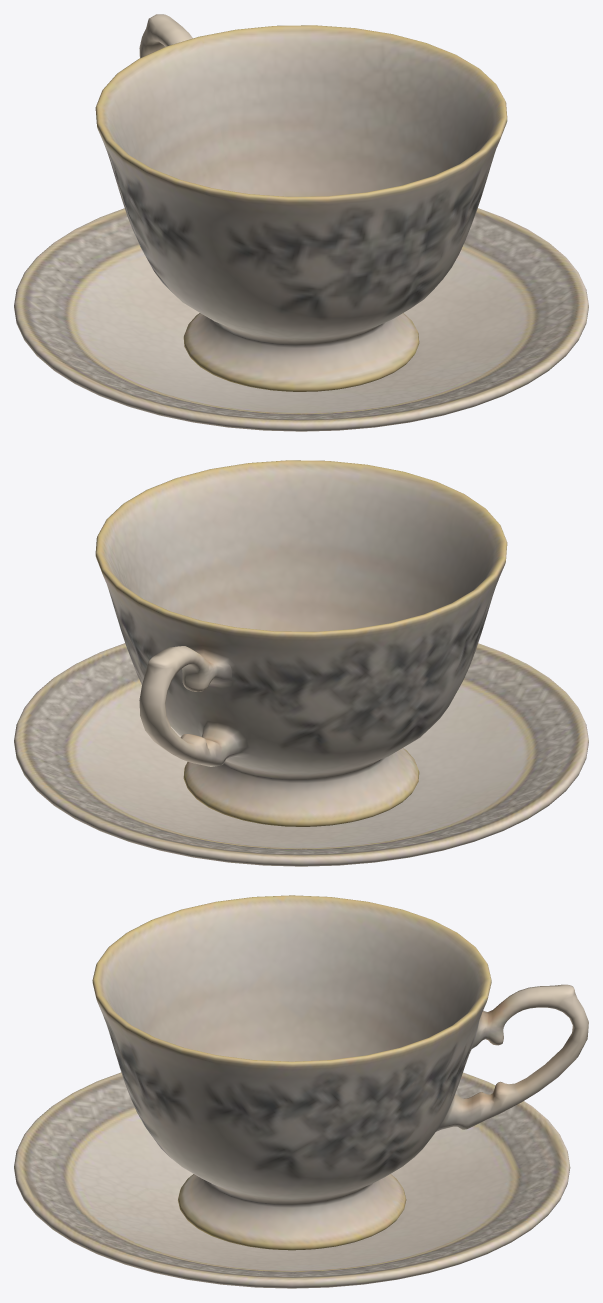
Rendered from cupset.glb.
3 renders of one model, top to bottom at view 1: azimuth 30°, elevation 25°; view 2: azimuth 150°, elevation 25°; view 3: azimuth 270°, elevation 25°, orthographic. The views are drawn at different scales.
Parts seen in each view (by area): view 1: tea_set_01_cup_small_01, tea_set_01_saucer_circular_03; view 2: tea_set_01_cup_small_01, tea_set_01_saucer_circular_03; view 3: tea_set_01_cup_small_01, tea_set_01_saucer_circular_03.
Boxes of the visible parts, x1,y1,x2,y2 form: tea_set_01_cup_small_01: (95, 14, 507, 391); tea_set_01_saucer_circular_03: (14, 208, 588, 431); tea_set_01_cup_small_01: (95, 460, 507, 826); tea_set_01_saucer_circular_03: (14, 643, 588, 866); tea_set_01_cup_small_01: (92, 895, 588, 1250); tea_set_01_saucer_circular_03: (14, 1072, 570, 1288).
Size of the model in its own units: 0.149 by 0.0704 by 0.154.
Materials: 1 (1 with a texture image).
